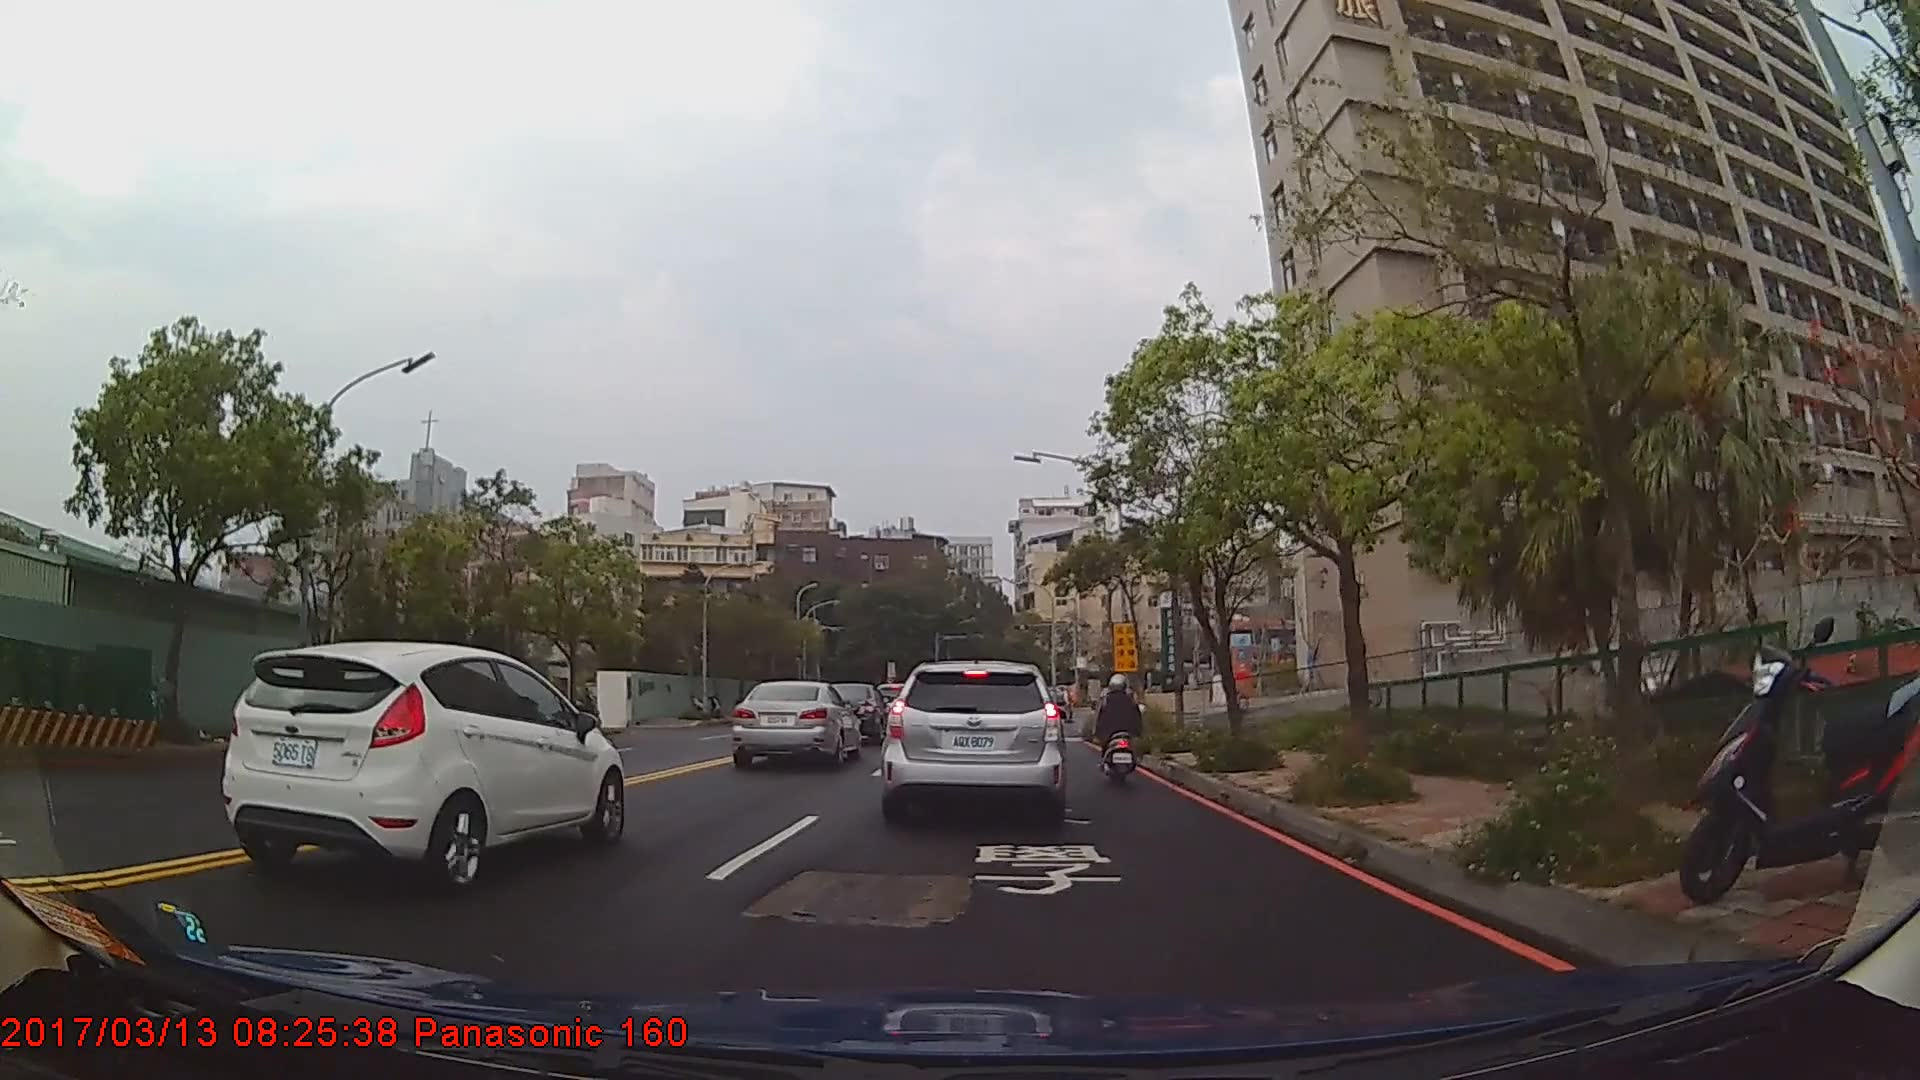rider: (1097, 672, 1146, 789)
vehicle: (221, 640, 625, 898), (882, 659, 1064, 821), (732, 678, 861, 769), (821, 680, 888, 743)
